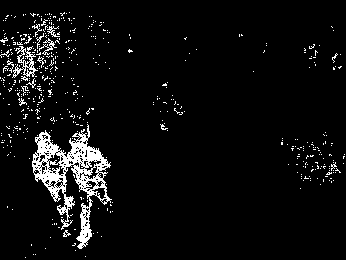person: (68, 133, 112, 240), (32, 133, 74, 235)
